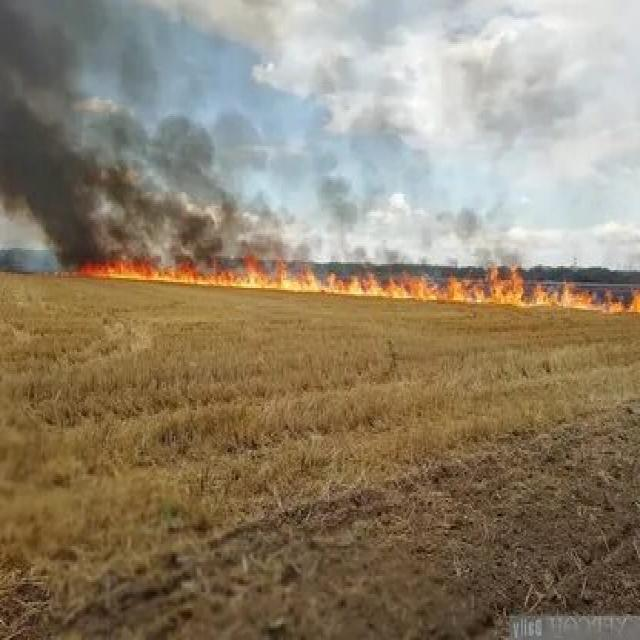Fire: (33, 236, 640, 353)
Smoke: (10, 0, 639, 248)
